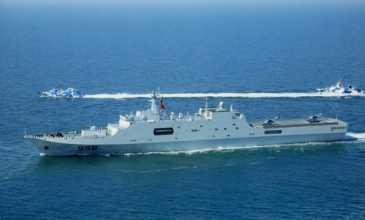warship: (23, 100, 351, 156)
